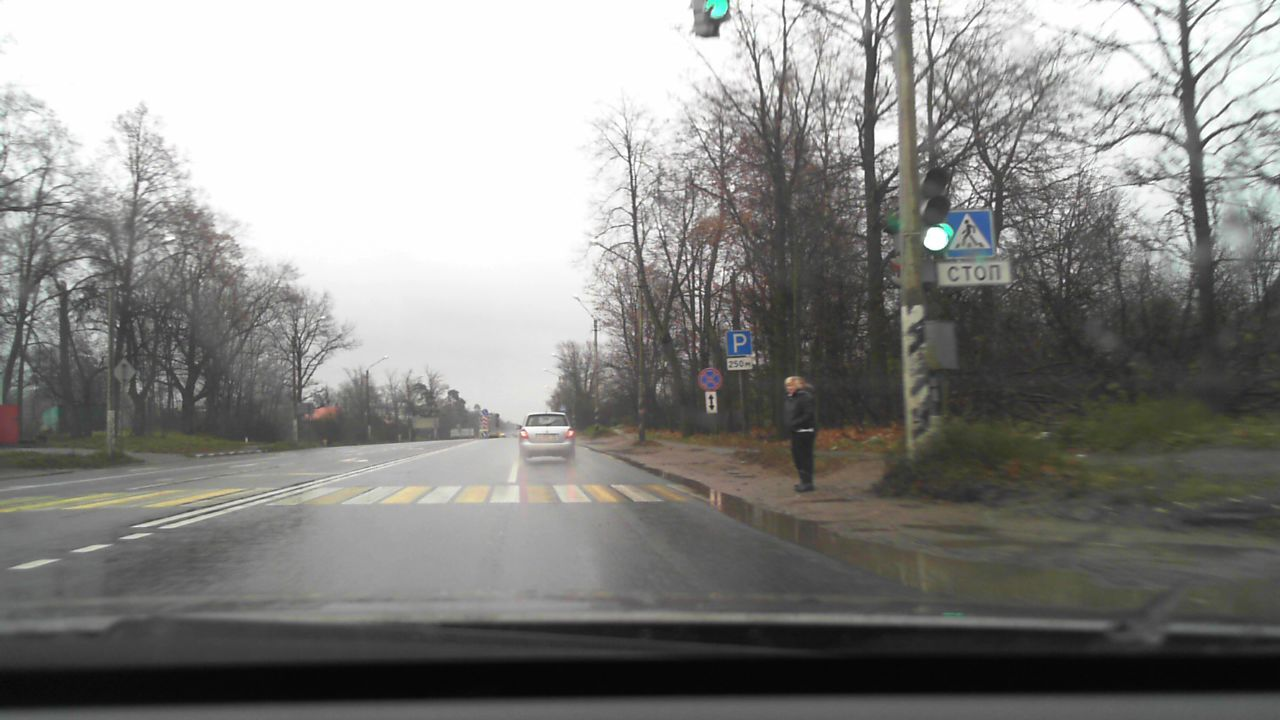No Parking: (697, 367, 722, 391)
